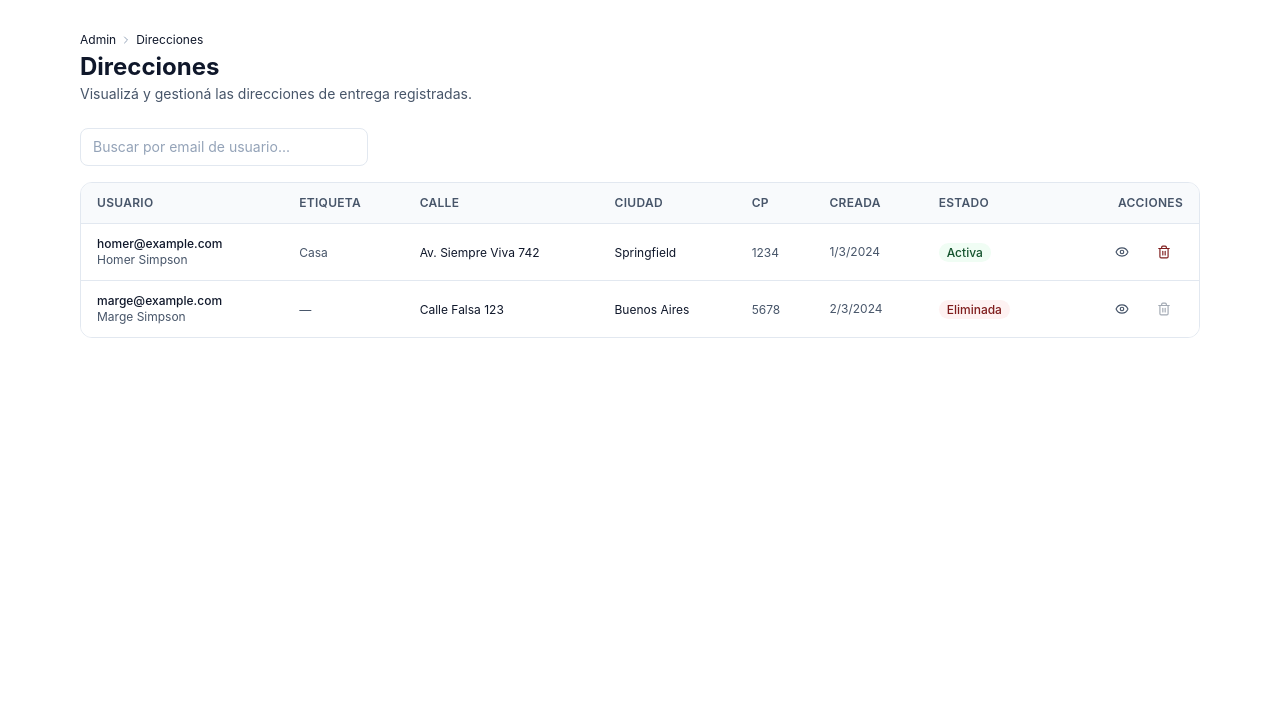
Test case: AdminDirecciones › opens the detail view dialog
Expected: the text "Av. Siempre Viva 742" is shown, top-left (420, 245), bottom-right (540, 260)
Click the button named "ver detalles" in the row of "homer@example.com": (1122, 252) top-left (1103, 236), bottom-right (1141, 268)
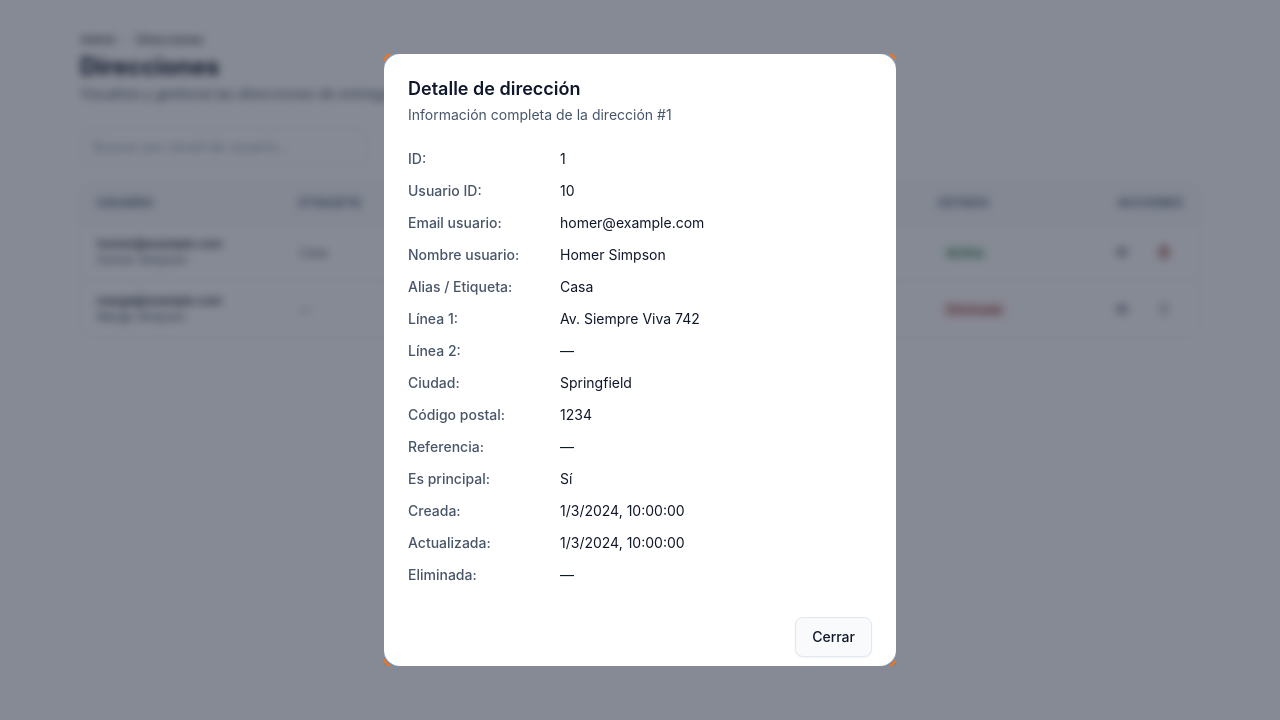
Now the heading "Detalle de dirección" is shown, box top-left (408, 78), bottom-right (580, 99)
